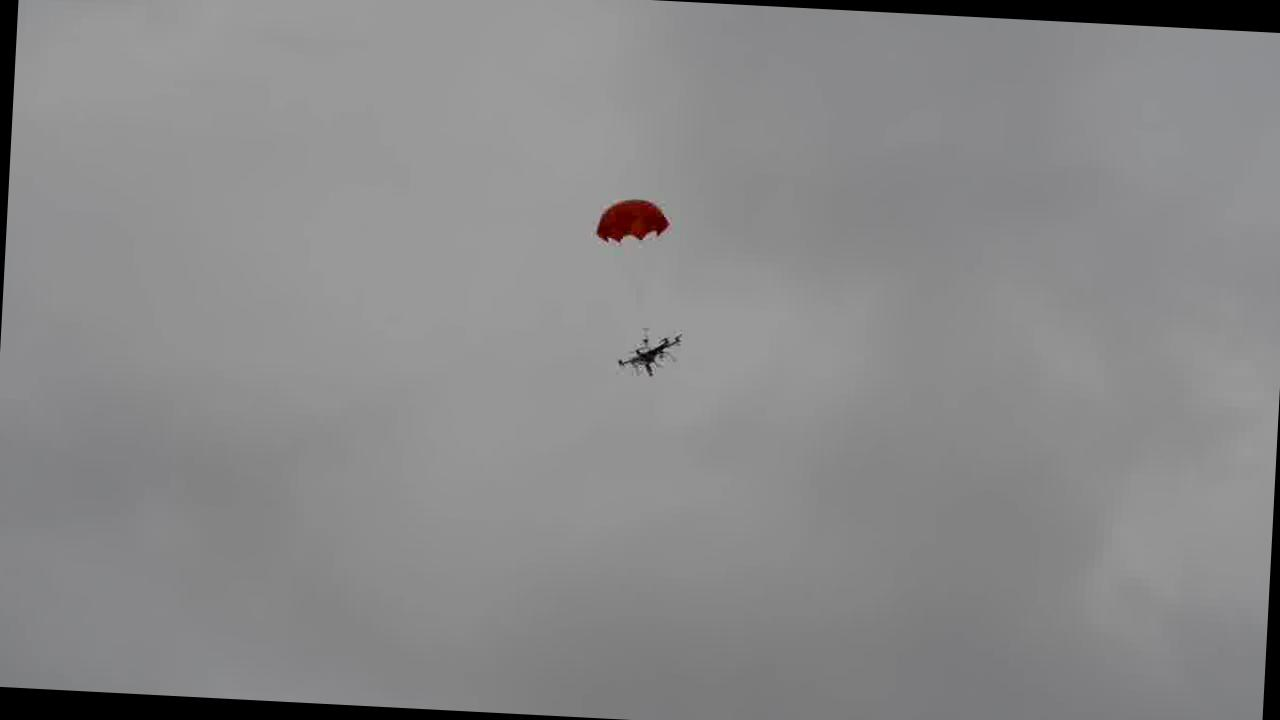drone: (612, 324, 686, 380)
